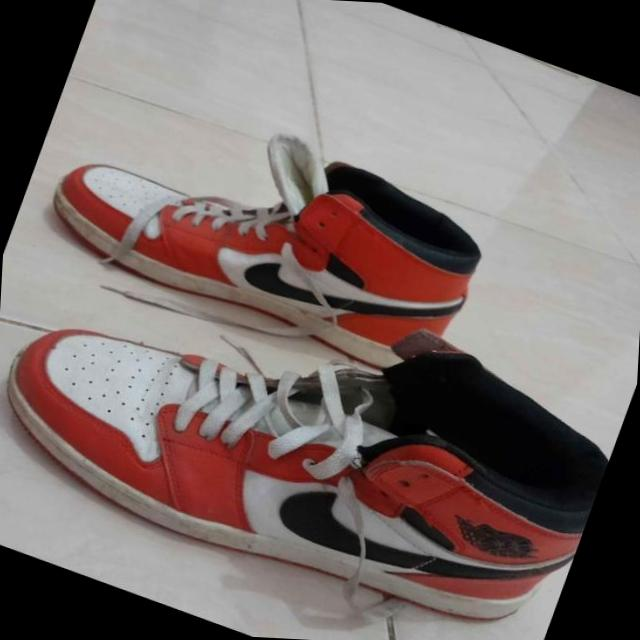nike_fake_jordan: (0, 197, 639, 640), (8, 56, 514, 410)
